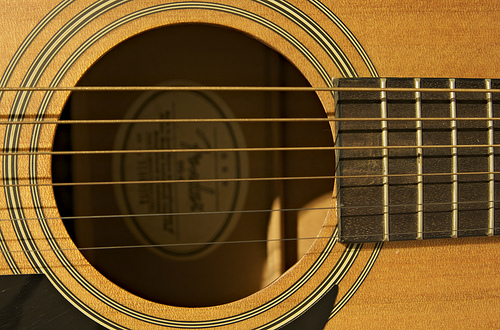guitar: (1, 1, 500, 330)
